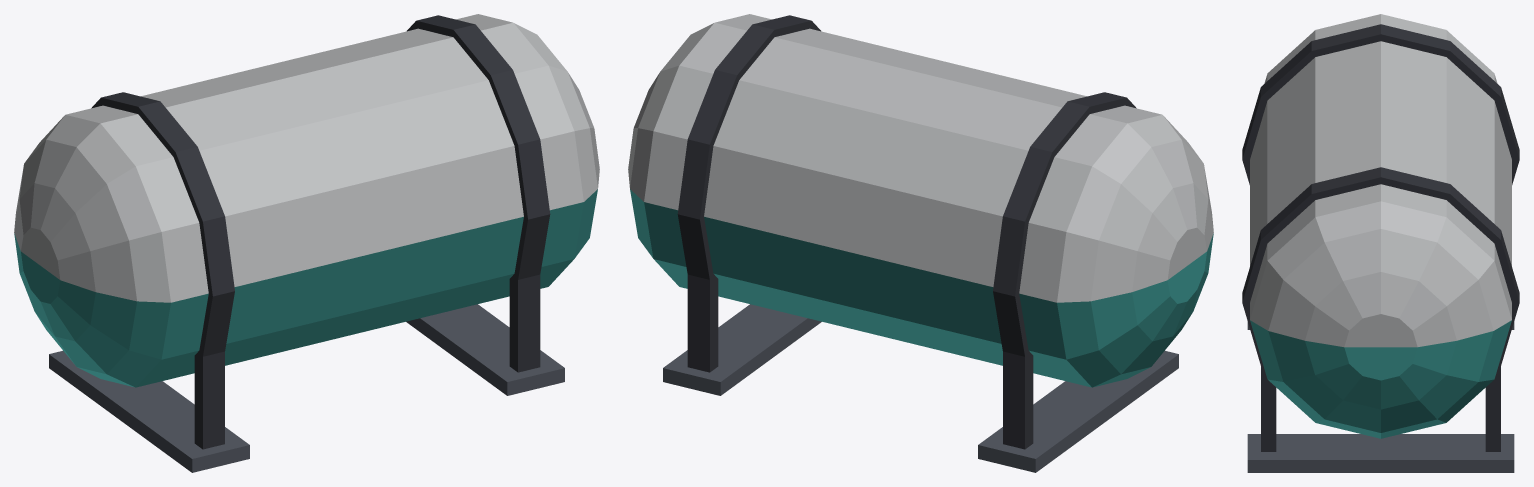
Rendered from horizontal-tank-6e9b8b.glb.
3 views of the same model, side by side, from view 1: azimuth 30°, elevation 25°; view 2: azimuth 150°, elevation 25°; view 3: azimuth 270°, elevation 25° (orthographic). The views are drawn at different scales.
Visible parts, largest first — view 1: tank-shell; view 2: tank-shell; view 3: tank-shell.
Part boxes in pixels (box(x1,y1,x2,y2)): tank-shell: box(14, 14, 599, 472); tank-shell: box(628, 14, 1213, 472); tank-shell: box(1242, 14, 1519, 472).
Bounding box in the file's own units: 2.4 × 1.33 × 1.16.
